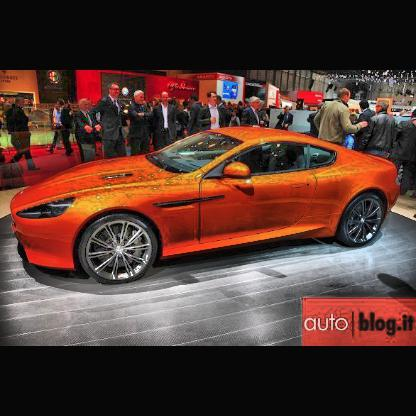Aston Martin Virage Coupe 2012: (12, 124, 403, 286)
